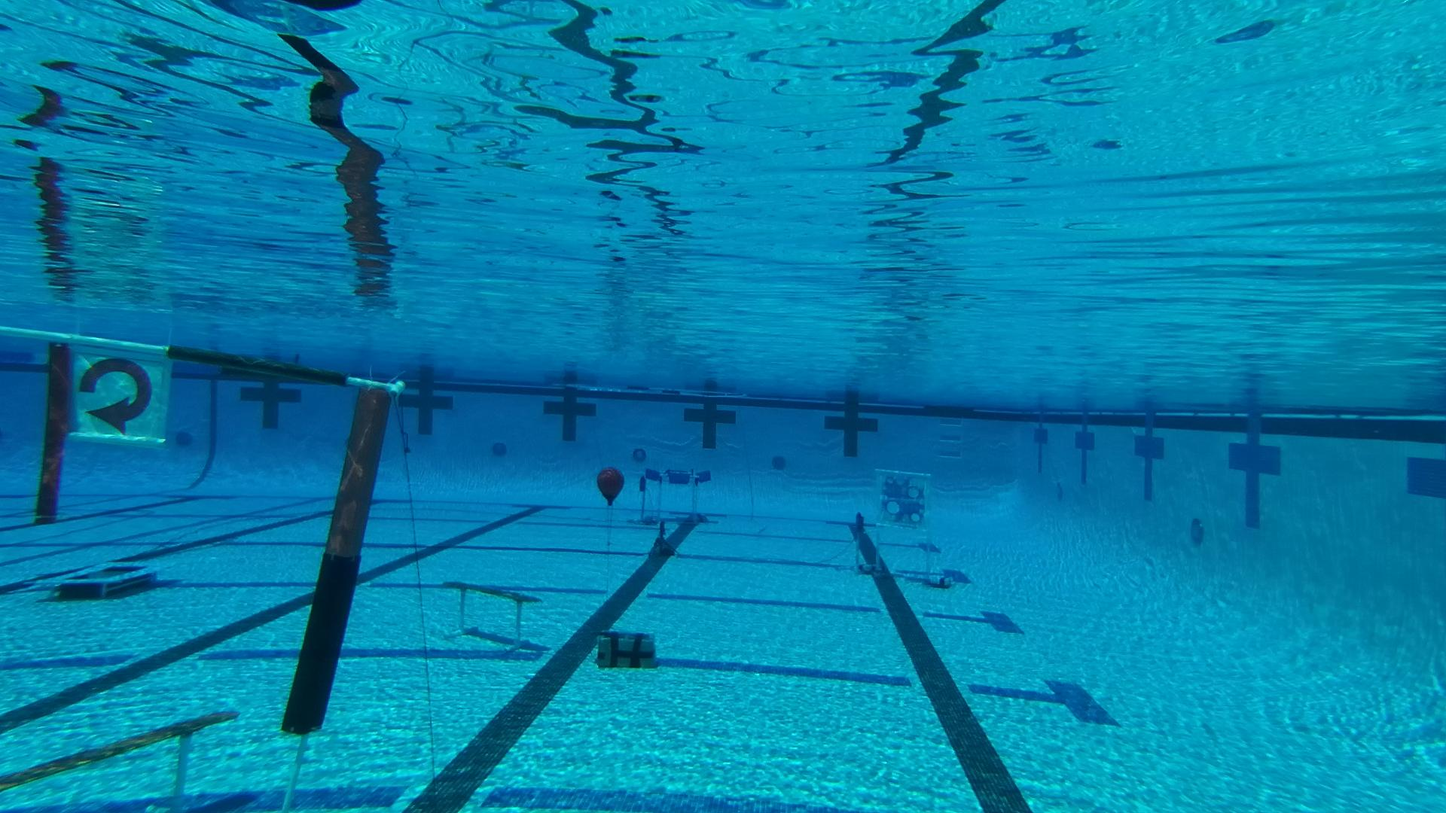buoy: (596, 466, 624, 505)
coral-box-side: (641, 467, 712, 522)
dropper-box-side: (53, 555, 158, 603)
path: (0, 705, 244, 813), (439, 574, 544, 664)
red octagon: (886, 499, 901, 517), (905, 487, 922, 501), (910, 511, 921, 523), (885, 474, 897, 485)
red-gate-sign: (62, 343, 174, 451)
